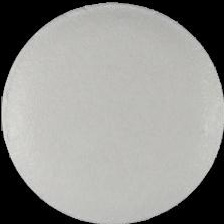68788-9686: (0, 0, 224, 224)
